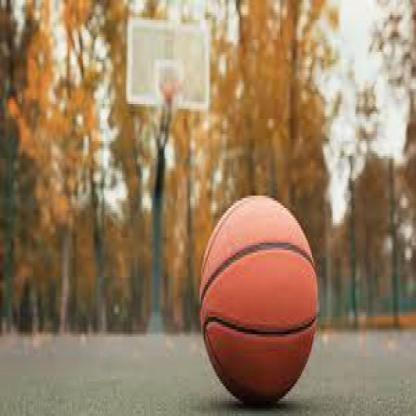basketball: (200, 196, 319, 408)
